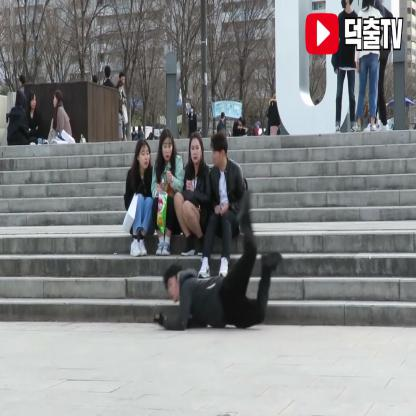Fall_Down: (149, 189, 292, 336)
